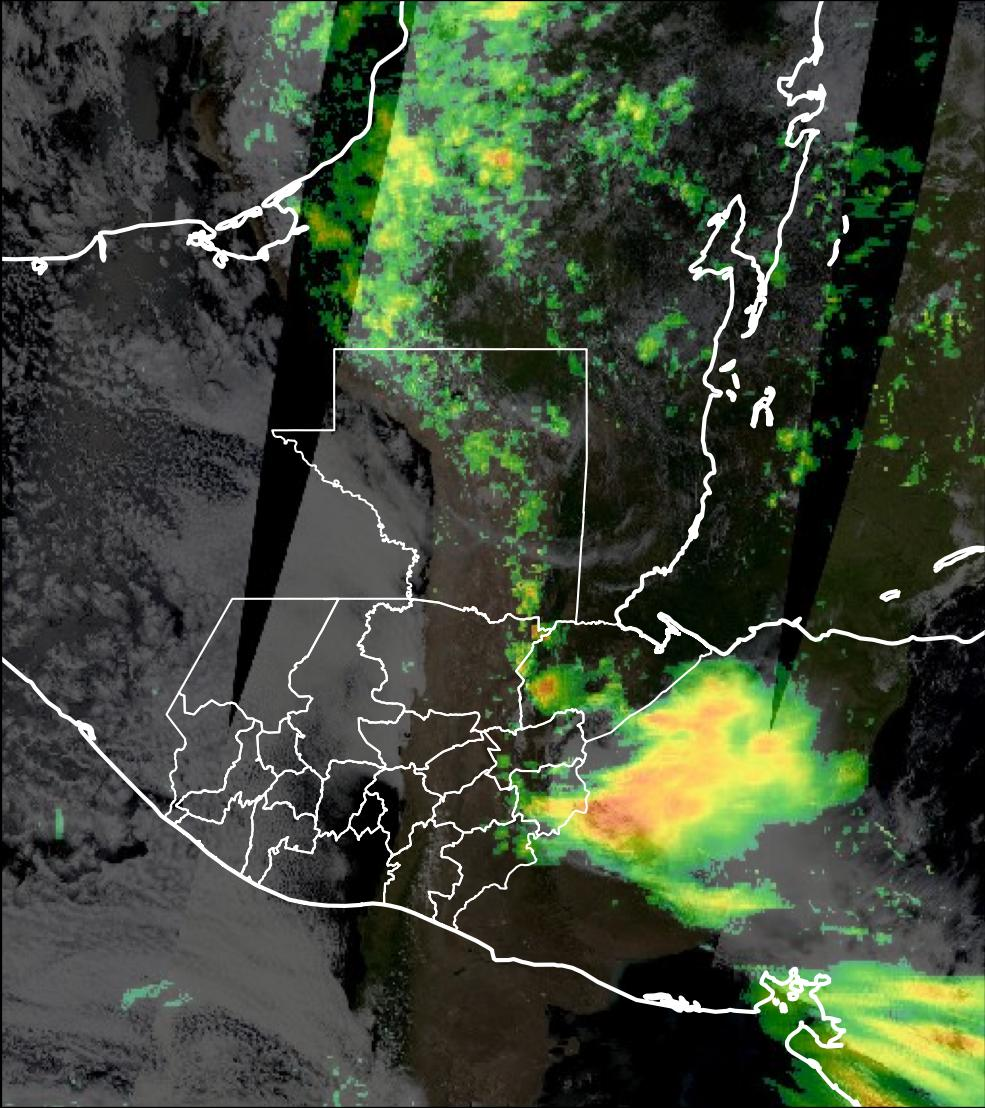precipitacion: (542, 674, 869, 870)
